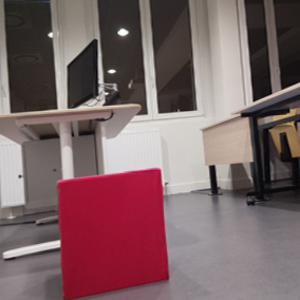medium: (51, 166, 173, 300)
